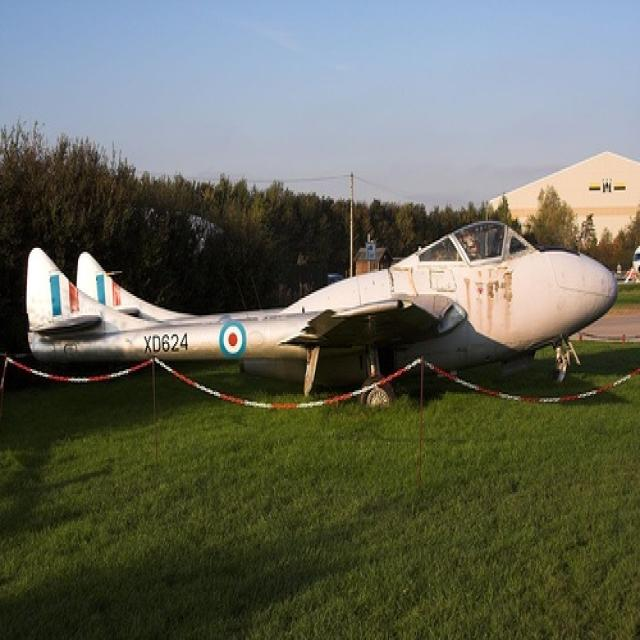aeroplane: (24, 221, 618, 406)
